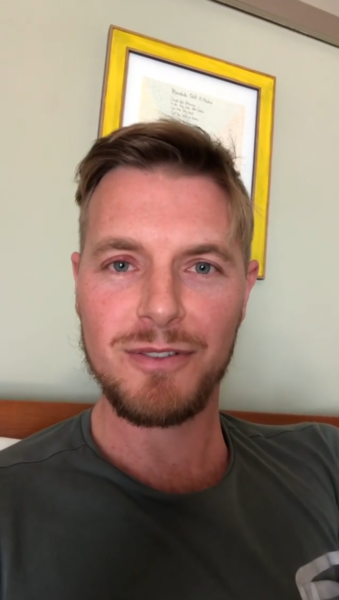bare: (76, 275, 244, 427)
